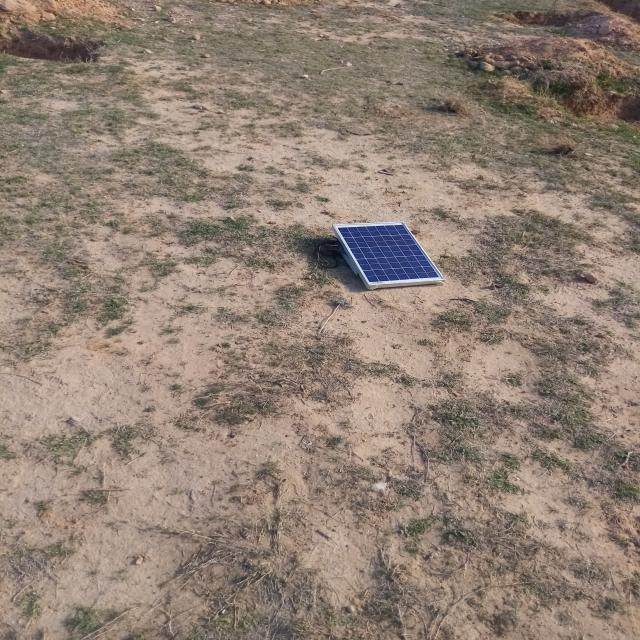no faulty: (333, 222, 445, 286)
